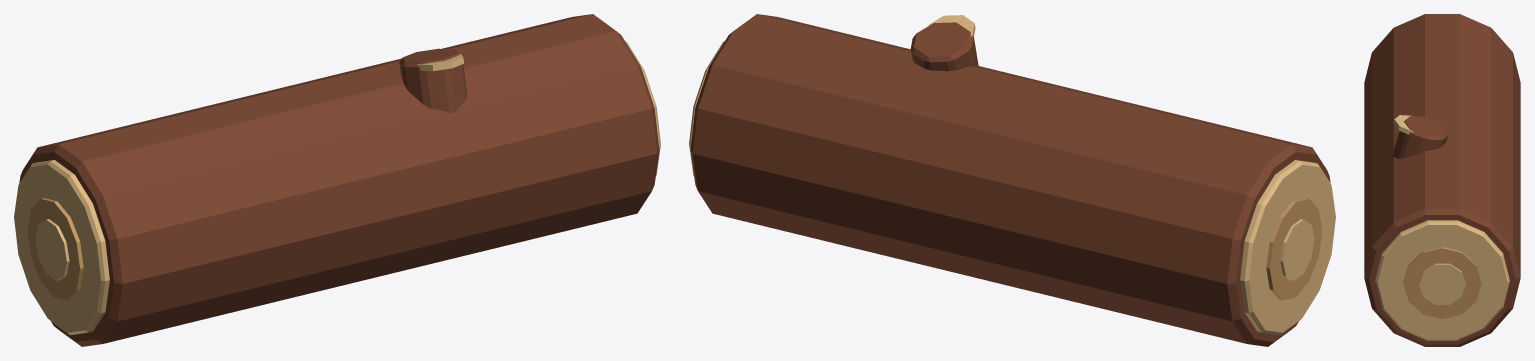
Rendered from log.glb.
The picture shows the model from 3 angles, left to right: view 1: azimuth 30°, elevation 25°; view 2: azimuth 150°, elevation 25°; view 3: azimuth 270°, elevation 25°; orthographic projection. The views are drawn at different scales.
Visible parts, largest first — view 1: Wood__7A4630, WoodPlanks__DEB880, WoodPlanks__C49660; view 2: Wood__7A4630, WoodPlanks__DEB880, WoodPlanks__C49660; view 3: Wood__7A4630, WoodPlanks__DEB880, WoodPlanks__C49660.
Boxes of the visible parts, bbox=[...] form: Wood__7A4630: bbox=[19, 14, 659, 346]; WoodPlanks__DEB880: bbox=[14, 40, 660, 335]; WoodPlanks__C49660: bbox=[27, 198, 83, 300]; Wood__7A4630: bbox=[690, 14, 1330, 346]; WoodPlanks__DEB880: bbox=[689, 15, 1335, 335]; WoodPlanks__C49660: bbox=[1266, 198, 1322, 300]; Wood__7A4630: bbox=[1364, 14, 1520, 346]; WoodPlanks__DEB880: bbox=[1375, 115, 1509, 340]; WoodPlanks__C49660: bbox=[1403, 247, 1481, 319].
Bounding box in the file's own units: 6.3 × 2.28 × 2.
